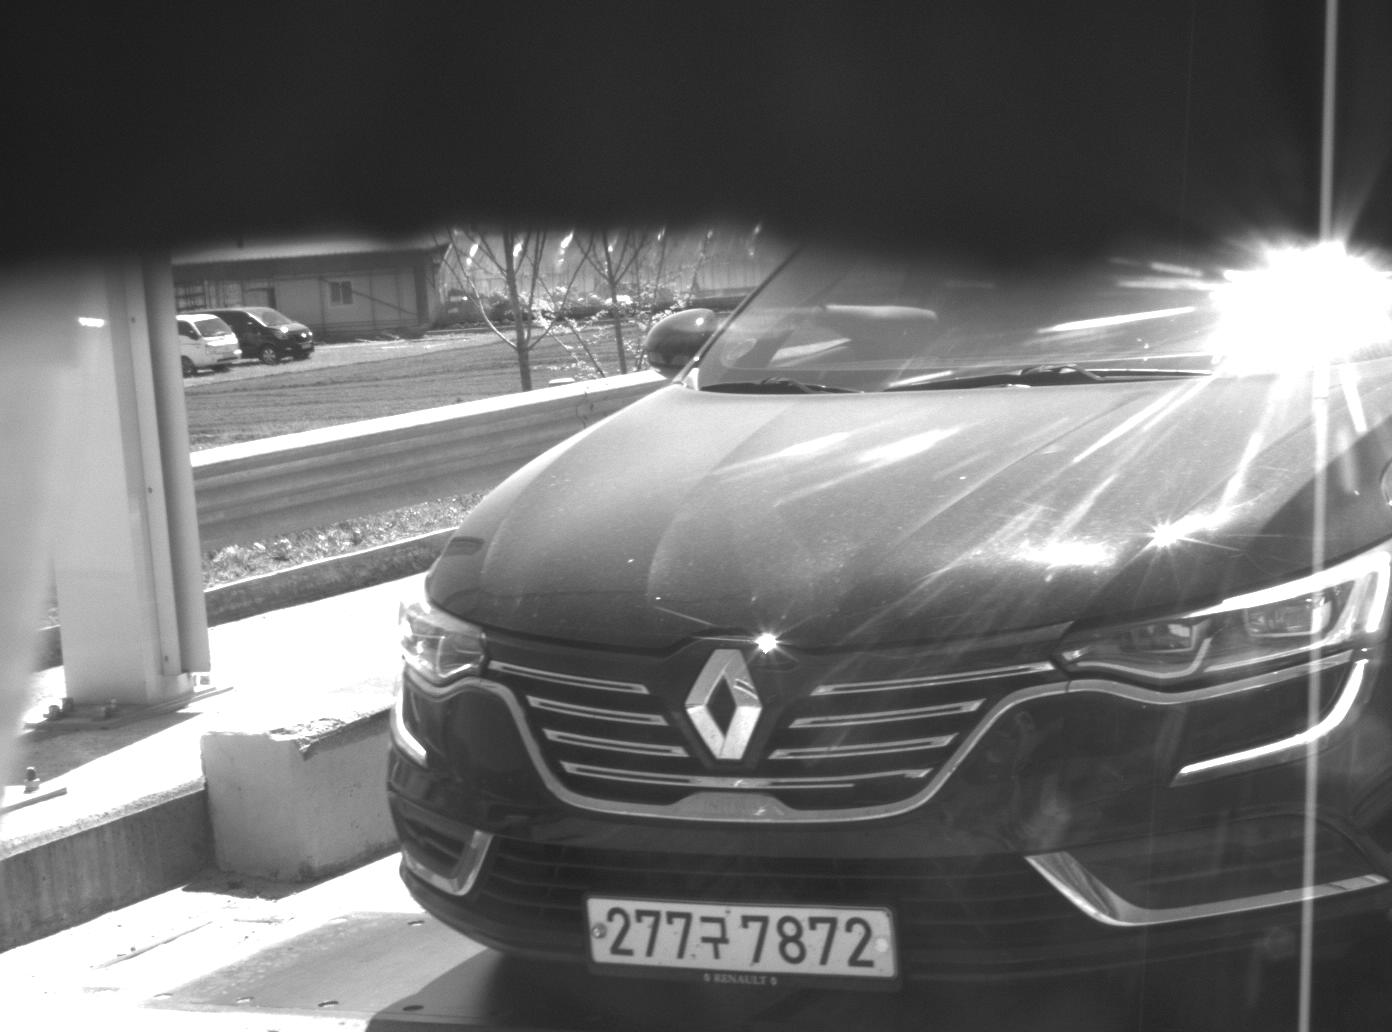car: (383, 236, 1392, 996)
plate: (578, 892, 901, 983)
